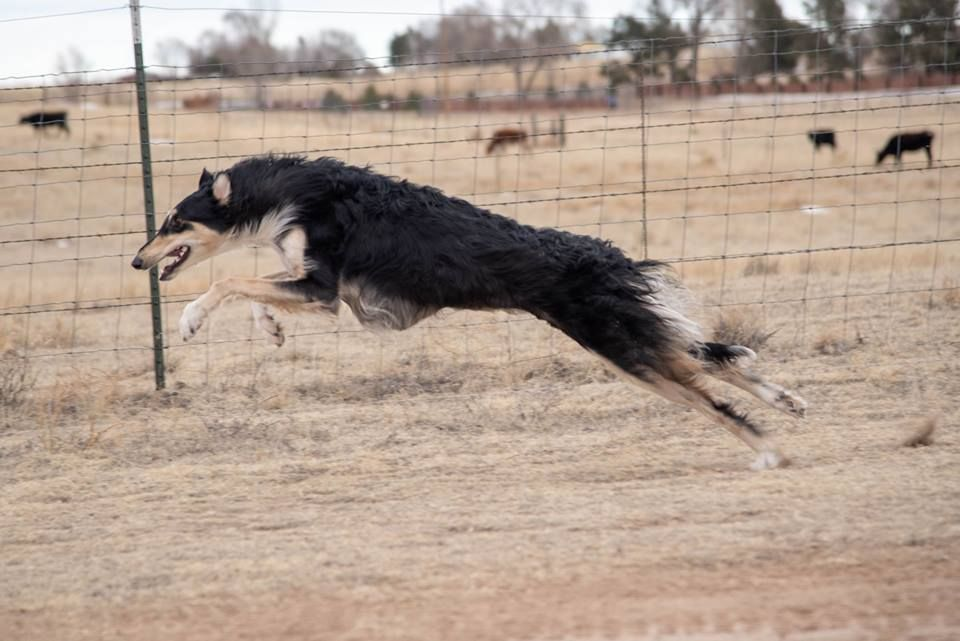borzoi: (108, 130, 846, 483)
